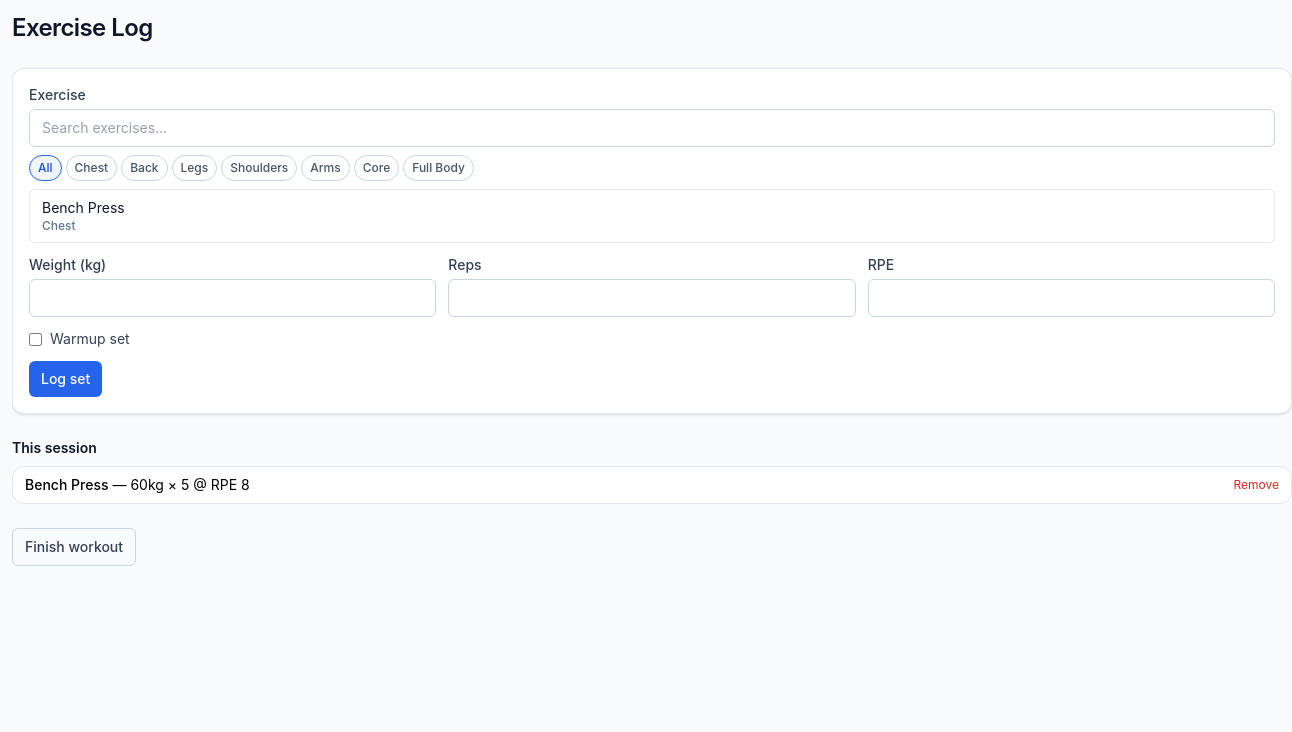
ExerciseLogView › finishes the session and returns to the start prompt
Click the button "Finish workout".
click(74, 547)  # box left=12, top=528, right=136, bottom=566
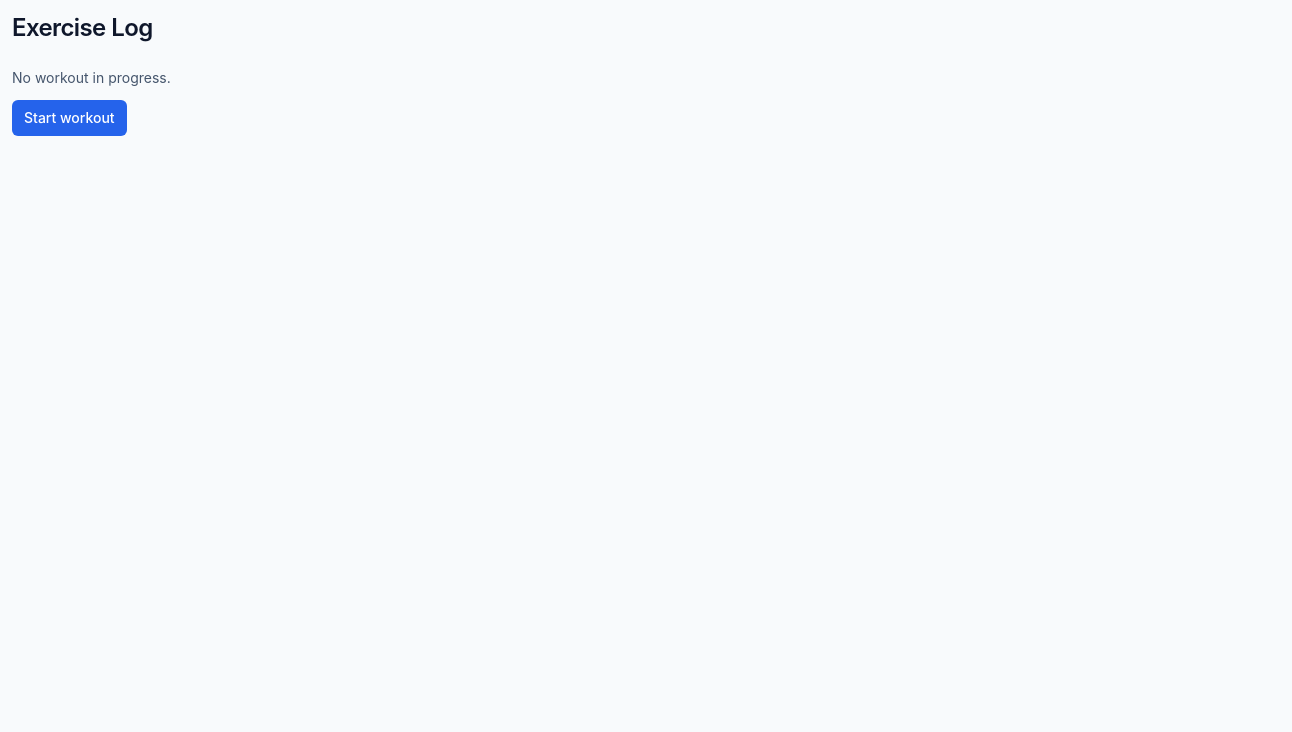
Result: the text "No workout in progress." is shown at left=12, top=68, right=171, bottom=88
